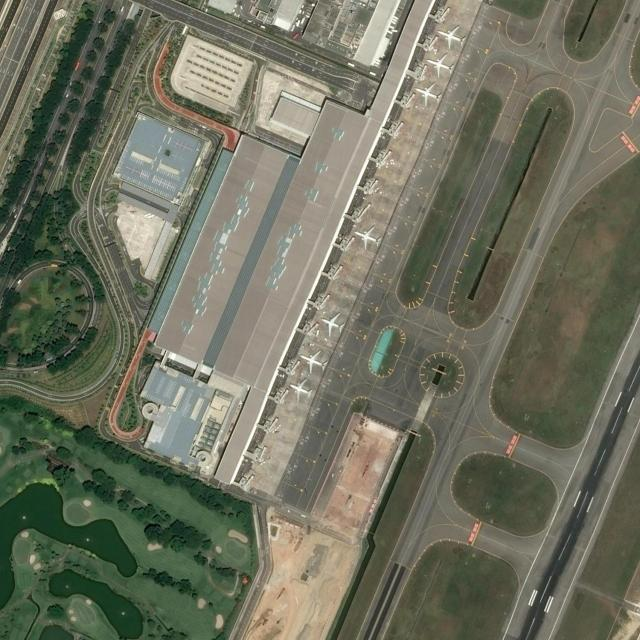Aircraft: (436, 24, 466, 49), (425, 52, 455, 77), (353, 224, 381, 250), (354, 225, 382, 250), (413, 81, 441, 106), (299, 349, 328, 373), (438, 25, 464, 49), (426, 53, 452, 77), (321, 312, 345, 338), (320, 312, 346, 336), (298, 351, 326, 373), (415, 82, 439, 106), (289, 378, 313, 401), (290, 378, 314, 400)
